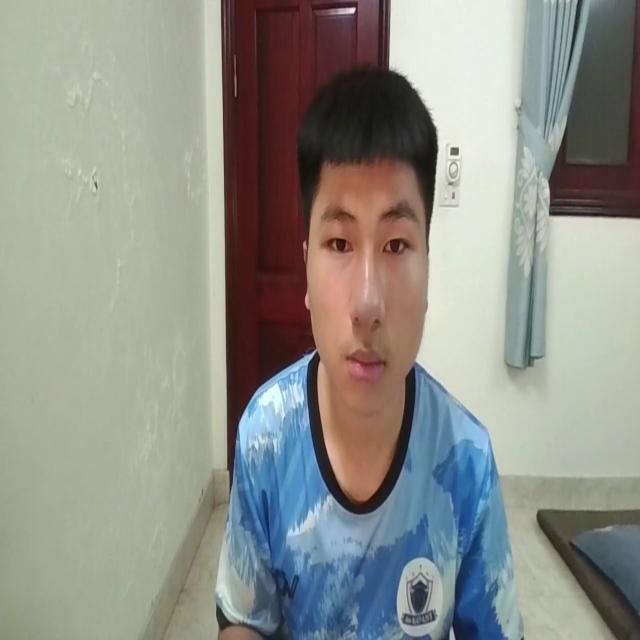student: (221, 58, 521, 640)
